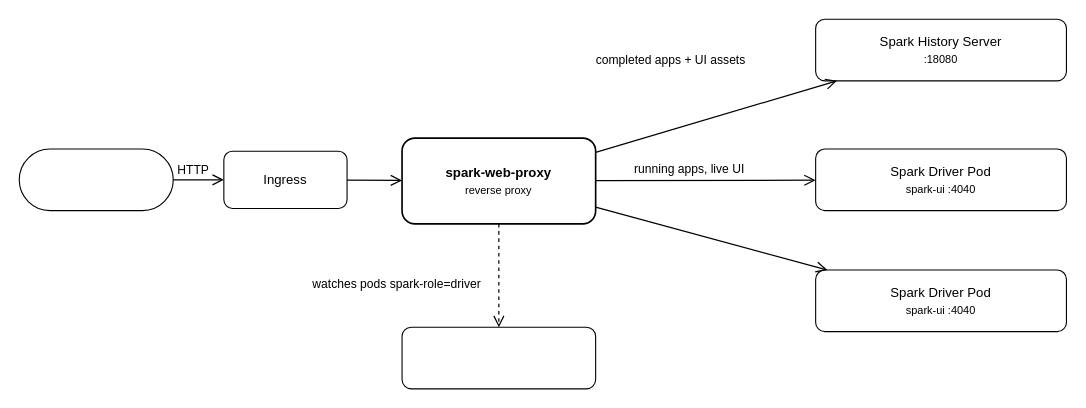
The diagram is 1086 pixels wide and 408 high, and some of its shapes have lost their labels. The centre of each missing label's shape, as x and y in pixels:
"Kubernetes API pods: list / watch" belongs at [498,357].
"User / Browser" belongs at [95,179].
